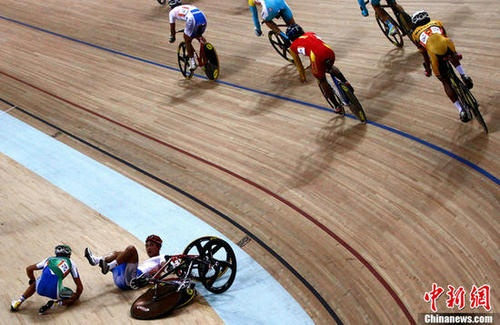falling: (5, 231, 88, 321)
